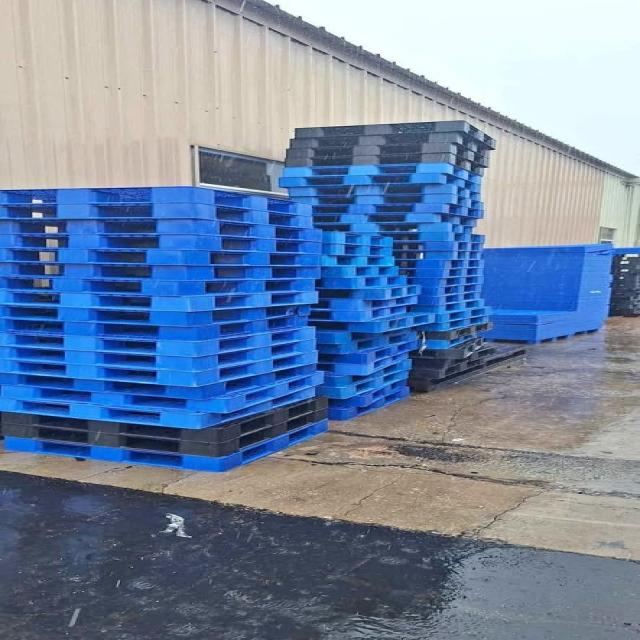non-igps: (0, 403, 335, 462), (0, 416, 337, 474), (0, 393, 336, 447), (0, 368, 331, 416), (0, 383, 323, 432), (0, 347, 324, 389), (0, 360, 319, 402), (0, 336, 323, 375), (0, 183, 318, 220), (0, 325, 321, 361), (0, 198, 319, 234), (0, 214, 327, 247), (0, 313, 312, 346), (0, 271, 322, 300), (0, 230, 329, 258), (0, 243, 327, 271), (0, 302, 317, 329), (0, 258, 326, 284), (0, 288, 324, 314), (401, 342, 541, 396), (286, 118, 504, 152), (280, 129, 497, 159), (278, 140, 494, 170), (275, 159, 485, 188), (280, 150, 488, 179), (274, 170, 486, 196), (276, 181, 485, 205), (306, 200, 488, 222), (307, 209, 482, 229), (306, 220, 478, 238), (342, 229, 489, 246), (401, 334, 492, 361), (400, 287, 486, 310), (409, 313, 494, 336), (413, 320, 500, 342), (402, 296, 494, 316), (388, 256, 489, 274), (388, 238, 488, 256), (388, 248, 485, 264), (391, 266, 487, 282), (413, 280, 489, 300), (430, 304, 498, 326), (396, 274, 488, 290), (416, 331, 486, 352)
